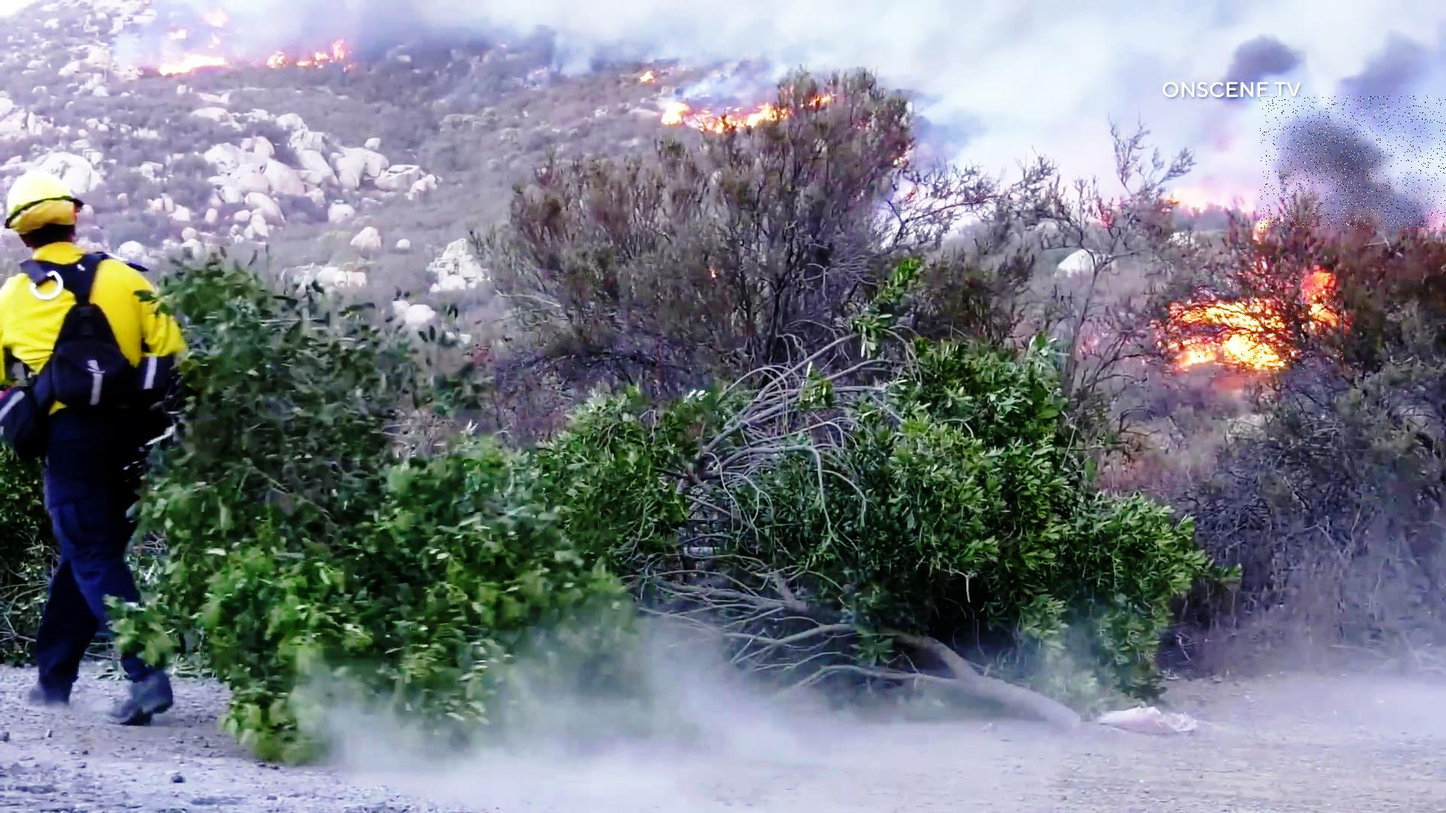fire: (1192, 275, 1346, 380)
smoke: (1260, 96, 1446, 229)
